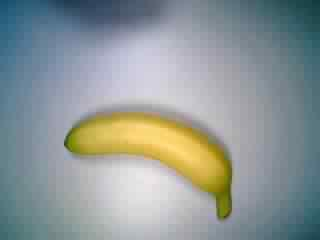banana: (63, 102, 239, 221)
